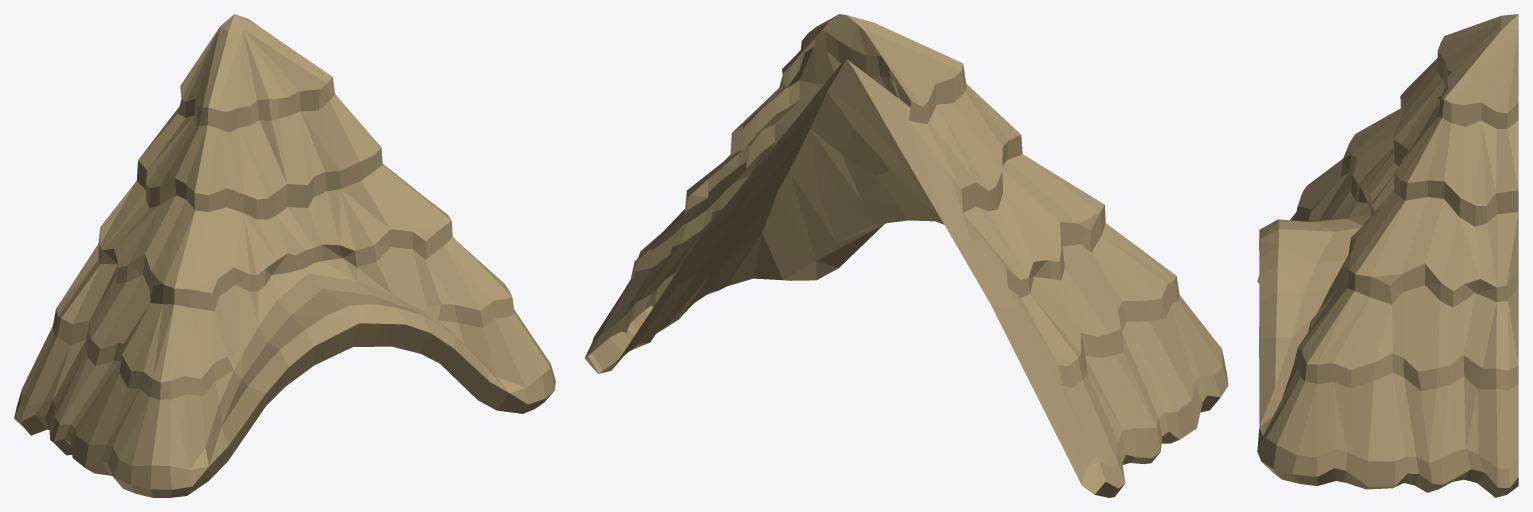
The model's file is rpgpp_ag_roof_02_6x5x3_end_03.fbx.
3 renders of one model, left to right at view 1: azimuth 30°, elevation 25°; view 2: azimuth 150°, elevation 25°; view 3: azimuth 270°, elevation 25°, orthographic. The views are drawn at different scales.
Visible parts, largest first — view 1: rpgpp_ag_roof_02_6x5x3_end_03; view 2: rpgpp_ag_roof_02_6x5x3_end_03; view 3: rpgpp_ag_roof_02_6x5x3_end_03.
Boxes of the visible parts, x1=… form: rpgpp_ag_roof_02_6x5x3_end_03: x1=14, y1=14, x2=555, y2=497; rpgpp_ag_roof_02_6x5x3_end_03: x1=584, y1=14, x2=1228, y2=497; rpgpp_ag_roof_02_6x5x3_end_03: x1=1257, y1=14, x2=1518, y2=497.
Bounding box in the file's own units: 8.03 × 6.17 × 3.89.
